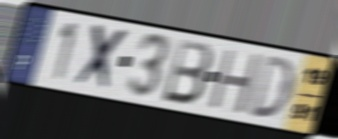1: (52, 20, 79, 83)
3: (126, 30, 171, 101)
B: (160, 37, 215, 108)
D: (248, 53, 297, 121)
H: (206, 46, 265, 117)
X: (70, 21, 132, 96)
